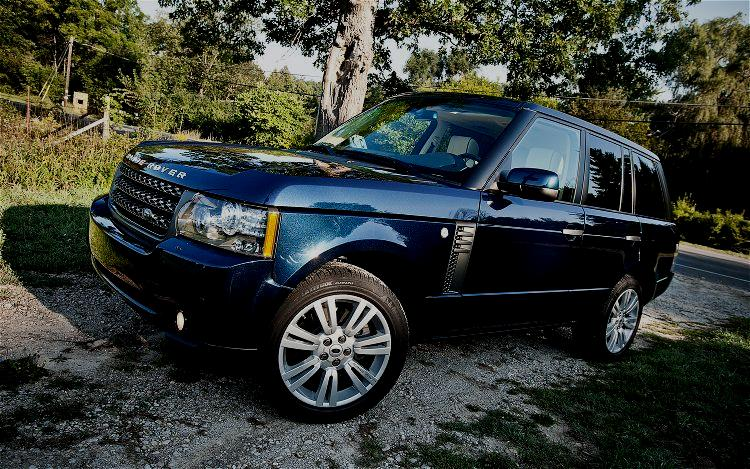range rover: (124, 149, 189, 185)
